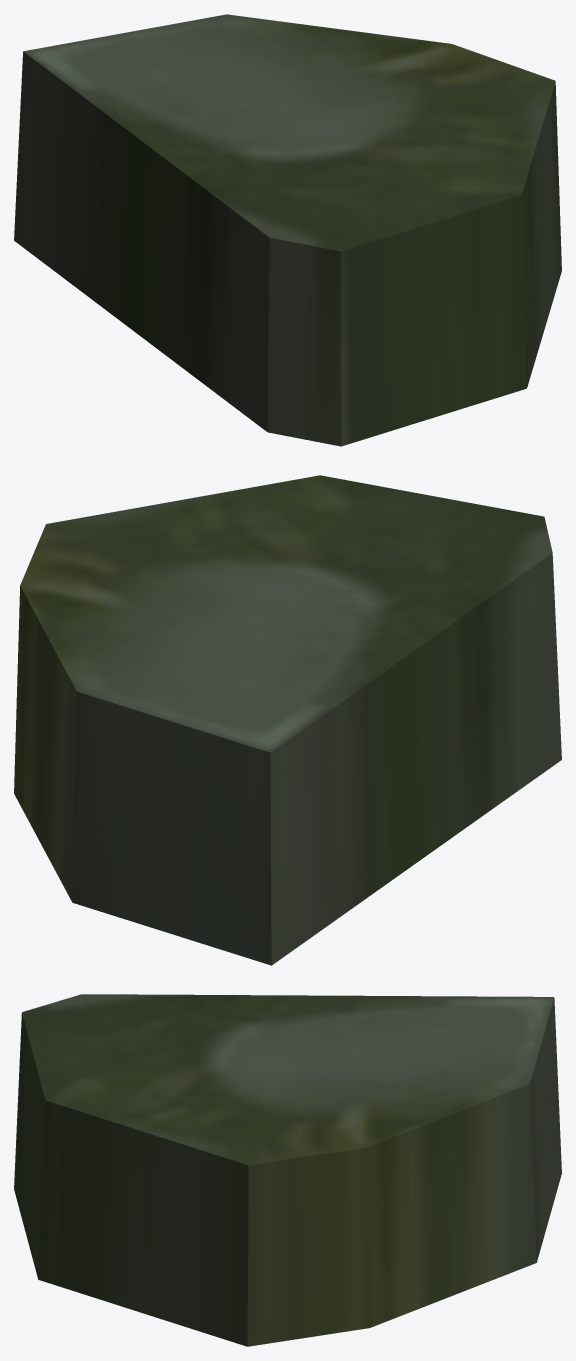
Rendered from yw_newshanlin_manholesuipian_003.FBX.
The picture shows the model from 3 angles, top to bottom: view 1: azimuth 30°, elevation 25°; view 2: azimuth 150°, elevation 25°; view 3: azimuth 270°, elevation 25°; orthographic projection. The views are drawn at different scales.
Parts seen in each view (by area): view 1: yw_newshanlin_manholesuipian_003; view 2: yw_newshanlin_manholesuipian_003; view 3: yw_newshanlin_manholesuipian_003.
Boxes of the visible parts, <box> form: yw_newshanlin_manholesuipian_003: <box>14,14,561,446</box>; yw_newshanlin_manholesuipian_003: <box>14,475,561,965</box>; yw_newshanlin_manholesuipian_003: <box>14,994,561,1346</box>.
Bounding box in the file's own units: 76.59 × 101 × 36.2.
